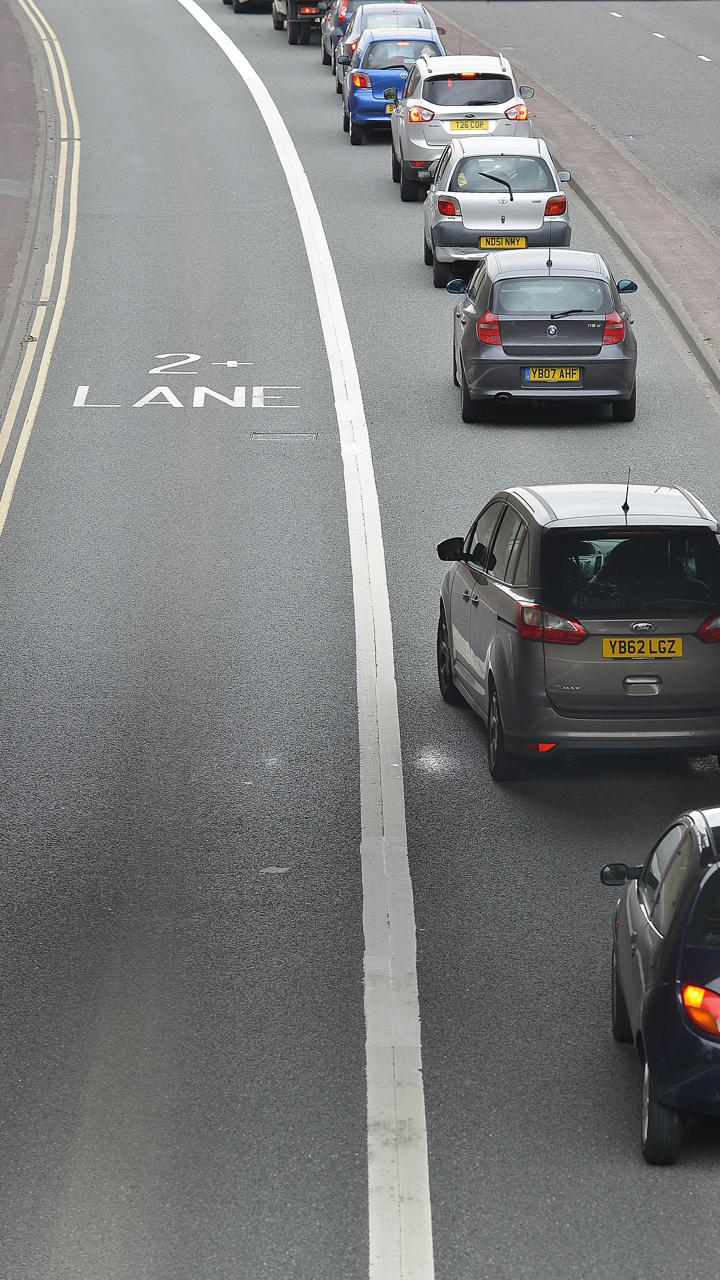vehicle: (422, 459, 720, 804), (595, 800, 720, 1169), (449, 241, 654, 433), (386, 44, 552, 201), (418, 131, 591, 277), (343, 19, 462, 136), (317, 1, 427, 83)
